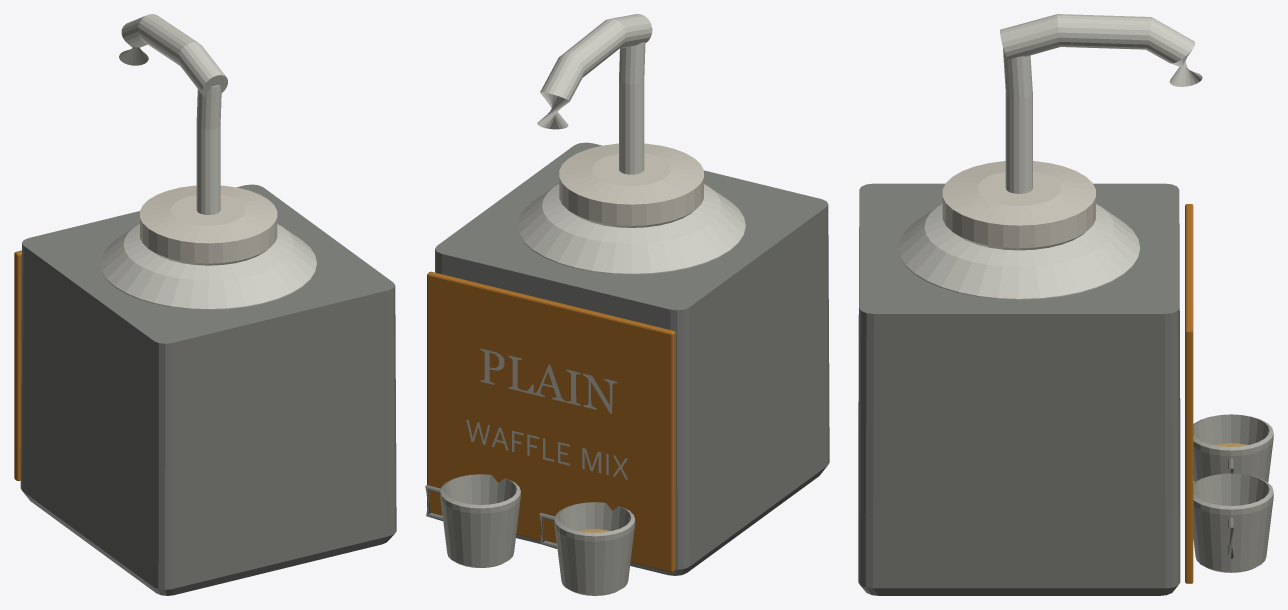
The model's file is batter.glb.
3 views of the same model, side by side, from view 1: azimuth 30°, elevation 25°; view 2: azimuth 150°, elevation 25°; view 3: azimuth 270°, elevation 25° (orthographic). The views are drawn at different scales.
Parts seen in each view (by area): view 1: batter; view 2: batter; view 3: batter.
Part boxes in pixels (x1,y1,x2,y2): batter: (14,14,396,595); batter: (425,14,829,595); batter: (858,14,1273,595).
Bounding box in the file's own units: 0.298 × 0.5479 × 0.3985.
